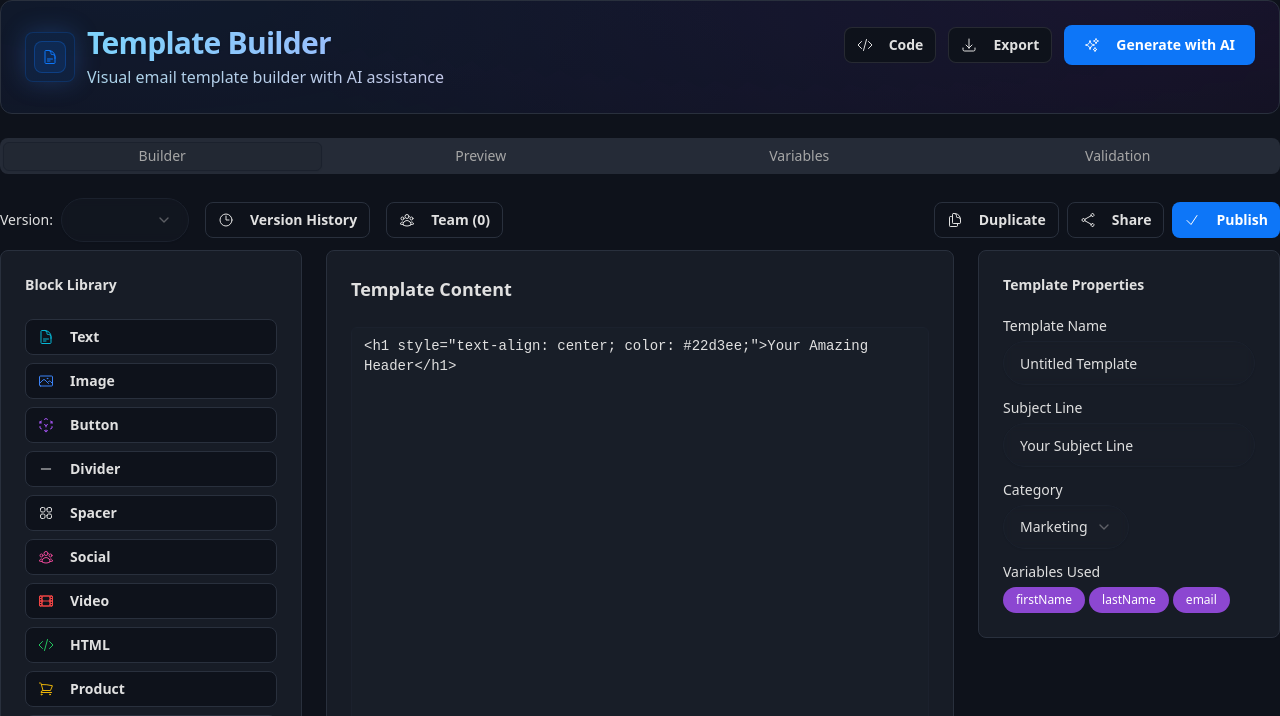
it: TemplateBuilder › renders header and preview elements
This screenshot has width=1280, height=716.
Expected: the heading "Template Builder" is shown, [87,25,828,61]
Click the tab "Preview".
click(481, 156)  # box [322,142,640,170]
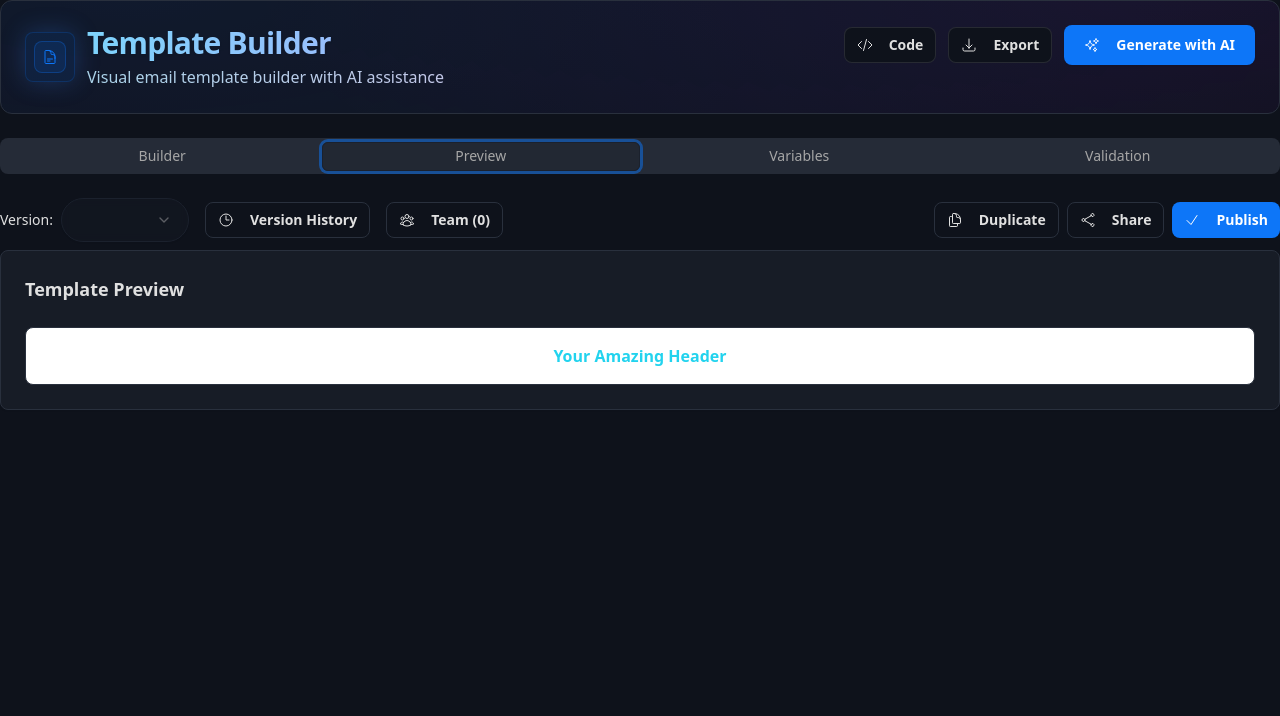
Now the text "Template Preview" is shown, box [25,277,184,301]
